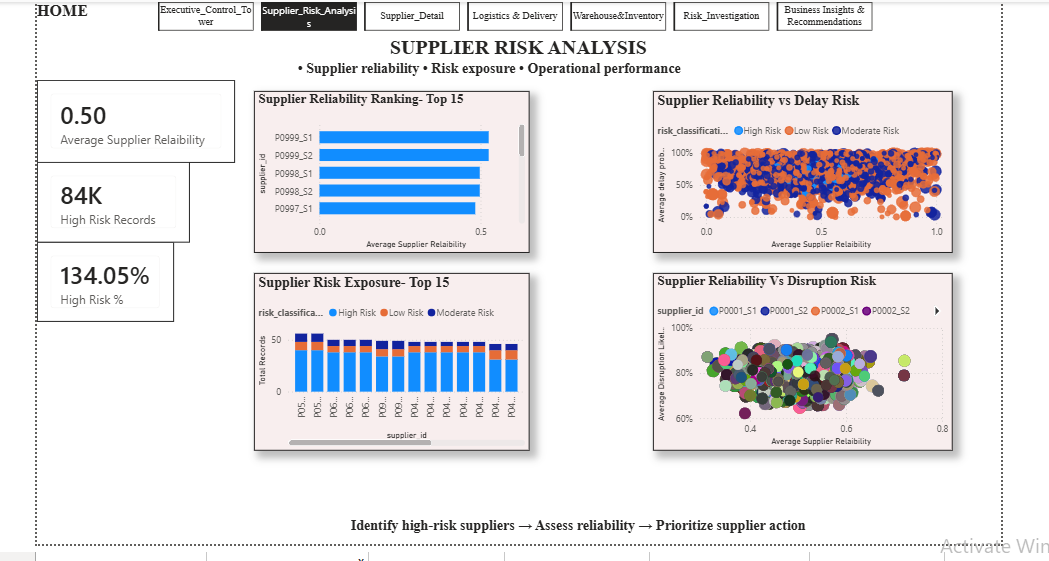

The page's visual inventory and layout, read from the dashboard file:
{"tool":"powerbi","page":{"name":"Supplier_Risk_Analysis","canvas":[1280,720],"ordinal":1},"visuals":[{"type":"textbox","box":[461,39.5,357.1,48.3],"z":0},{"type":"textbox","box":[341,71.7,550.2,32.2],"z":1000},{"type":"cardVisual","fields":{"Data":["Dim_Country.Average Supplier Relaibility"]},"box":[0,103.9,263.4,109.8],"z":2000},{"type":"cardVisual","fields":{"Data":["Dim_Country.High Risk %"]},"box":[0,319,181.9,106.3],"z":3000},{"type":"cardVisual","fields":{"Data":["Dim_Country.High Risk Records"]},"box":[0,212.2,203.4,106.8],"z":4000},{"type":"clusteredBarChart","title":"Supplier Reliability Ranking- Top 15","fields":{"Y":["Dim_Country.Average Supplier Relaibility"],"Category":["Fact_SupplyChain.supplier_id"]},"box":[288.3,118.5,365.9,215.1],"z":5000},{"type":"scatterChart","title":"Supplier Reliability vs Delay Risk","fields":{"X":["Dim_Country.Average Supplier Relaibility"],"Y":["Dim_Country.Average delay probability"],"Category":["Fact_SupplyChain.supplier_id"],"Series":["Fact_SupplyChain.risk_classification"],"Size":["Dim_Country.Average Shipping cost"]},"box":[818,118.5,398,215.1],"z":6000},{"type":"columnChart","title":"Supplier Risk Exposure- Top 15","fields":{"Category":["Fact_SupplyChain.supplier_id"],"Series":["Fact_SupplyChain.risk_classification"],"Y":["Dim_Country.Total Records"]},"box":[288.3,360,365.9,235.6],"z":7000},{"type":"scatterChart","title":"Supplier Reliability Vs Disruption Risk","fields":{"X":["Dim_Country.Average Supplier Relaibility"],"Y":["Dim_Country.Average Disruption Likelihood"],"Series":["Fact_SupplyChain.supplier_id"],"Size":["Dim_Country.Average Shipping cost"]},"box":[818,360,398,235.6],"z":8000},{"type":"pageNavigator","box":[161.3,0,950.4,38.9],"z":10000},{"type":"actionButton","title":"HOME","box":[0,0,100,40],"z":11000},{"type":"textbox","box":[411.2,679,627.8,41],"z":12000}]}

Visuals, with their boxes on the page's 1280x720 design canvas (x1, y1, x2, y2). These are canvas units, not pixel positions in the 1049x561 screenshot, which may show the page scaled, cropped or inside an application window:
textbox: bbox=(461, 40, 818, 88)
textbox: bbox=(341, 72, 891, 104)
cardVisual - Dim_Country.Average Supplier Relaibility: bbox=(0, 104, 263, 214)
cardVisual - Dim_Country.High Risk %: bbox=(0, 319, 182, 425)
cardVisual - Dim_Country.High Risk Records: bbox=(0, 212, 203, 319)
"Supplier Reliability Ranking- Top 15" clusteredBarChart: bbox=(288, 118, 654, 334)
"Supplier Reliability vs Delay Risk" scatterChart: bbox=(818, 118, 1216, 334)
"Supplier Risk Exposure- Top 15" columnChart: bbox=(288, 360, 654, 596)
"Supplier Reliability Vs Disruption Risk" scatterChart: bbox=(818, 360, 1216, 596)
pageNavigator: bbox=(161, 0, 1112, 39)
"HOME" actionButton: bbox=(0, 0, 100, 40)
textbox: bbox=(411, 679, 1039, 720)
